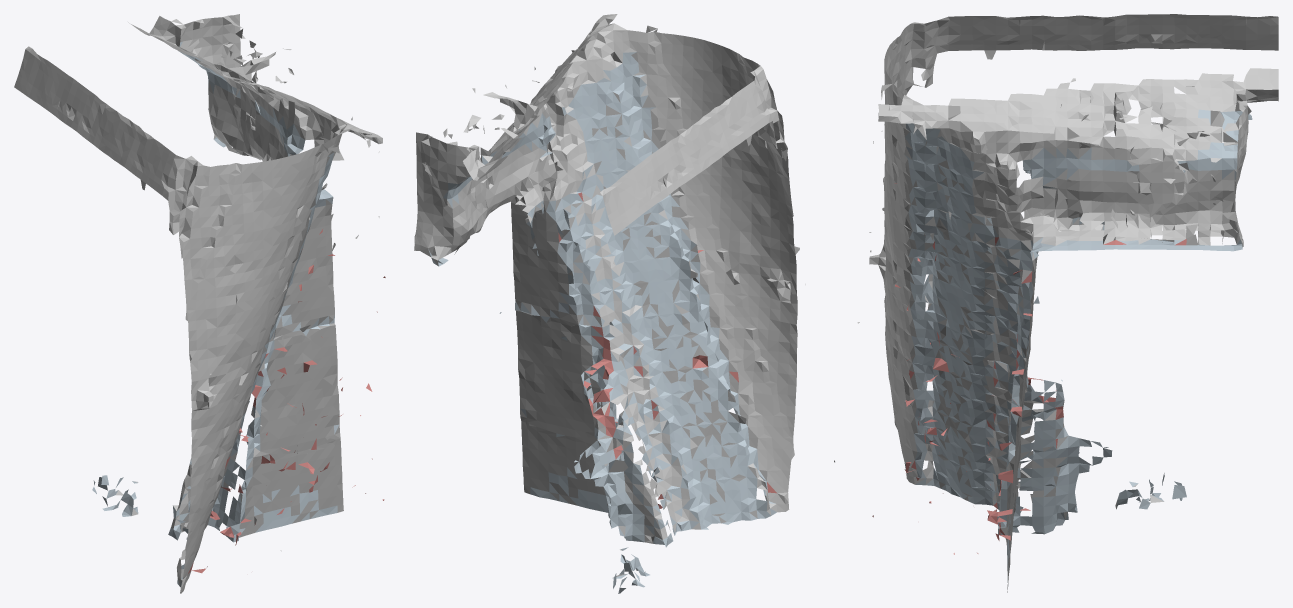
The model's file is R1-뜬면-2__nojudge_ALS_s0__before.glb.
3 views of the same model, side by side, from view 1: azimuth 30°, elevation 25°; view 2: azimuth 150°, elevation 25°; view 3: azimuth 270°, elevation 25° (orthographic). The views are drawn at different scales.
Size of the model in its own units: 18.2 by 35.41 by 29.94.
